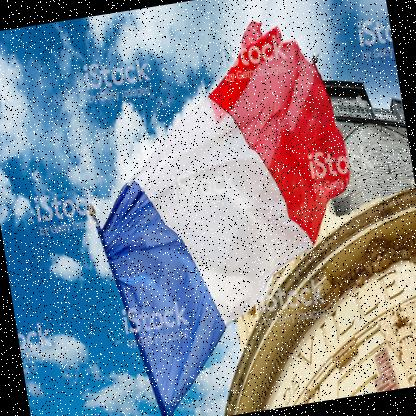fr: (69, 10, 383, 416)
